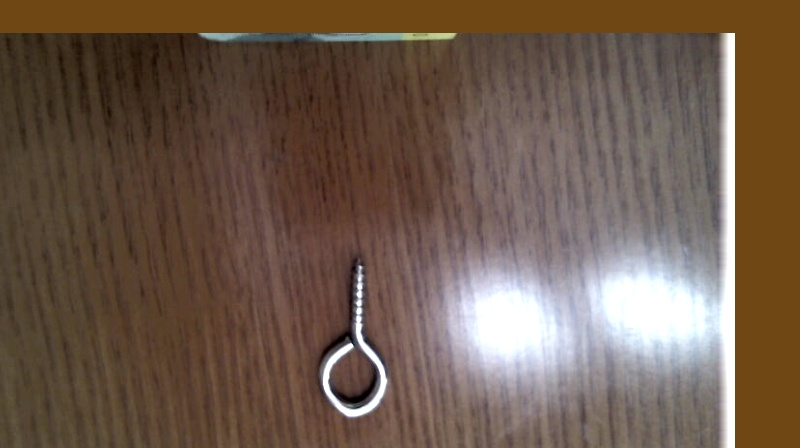O001: (310, 252, 393, 423)
